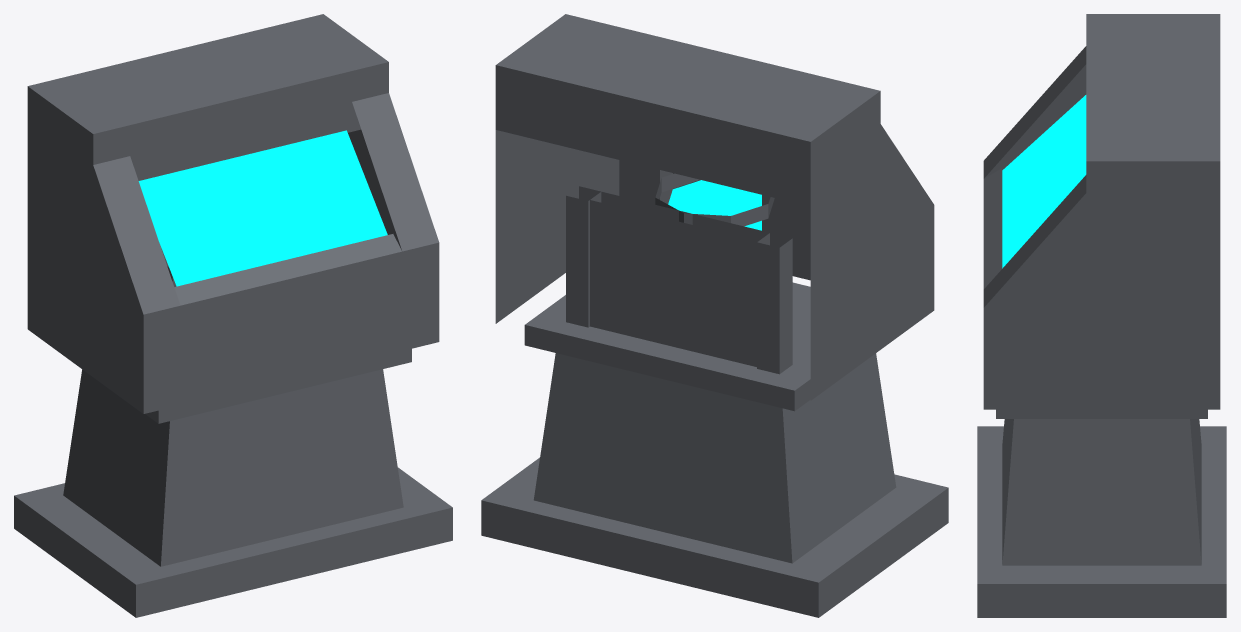
File: ENV_PROP_01_DataCoreTerminal.glb
3 views of the same model, side by side, from view 1: azimuth 30°, elevation 25°; view 2: azimuth 150°, elevation 25°; view 3: azimuth 270°, elevation 25° (orthographic). The views are drawn at different scales.
Parts seen in each view (by area): view 1: SM_ENV_PROP_01_DataCoreTerminal; view 2: SM_ENV_PROP_01_DataCoreTerminal; view 3: SM_ENV_PROP_01_DataCoreTerminal.
Boxes of the visible parts, x1,y1,x2,y2 form: SM_ENV_PROP_01_DataCoreTerminal: (14, 14, 452, 617); SM_ENV_PROP_01_DataCoreTerminal: (481, 14, 948, 617); SM_ENV_PROP_01_DataCoreTerminal: (977, 14, 1226, 617).
Bounding box in the file's own units: 1.2 × 1.6 × 0.8.
